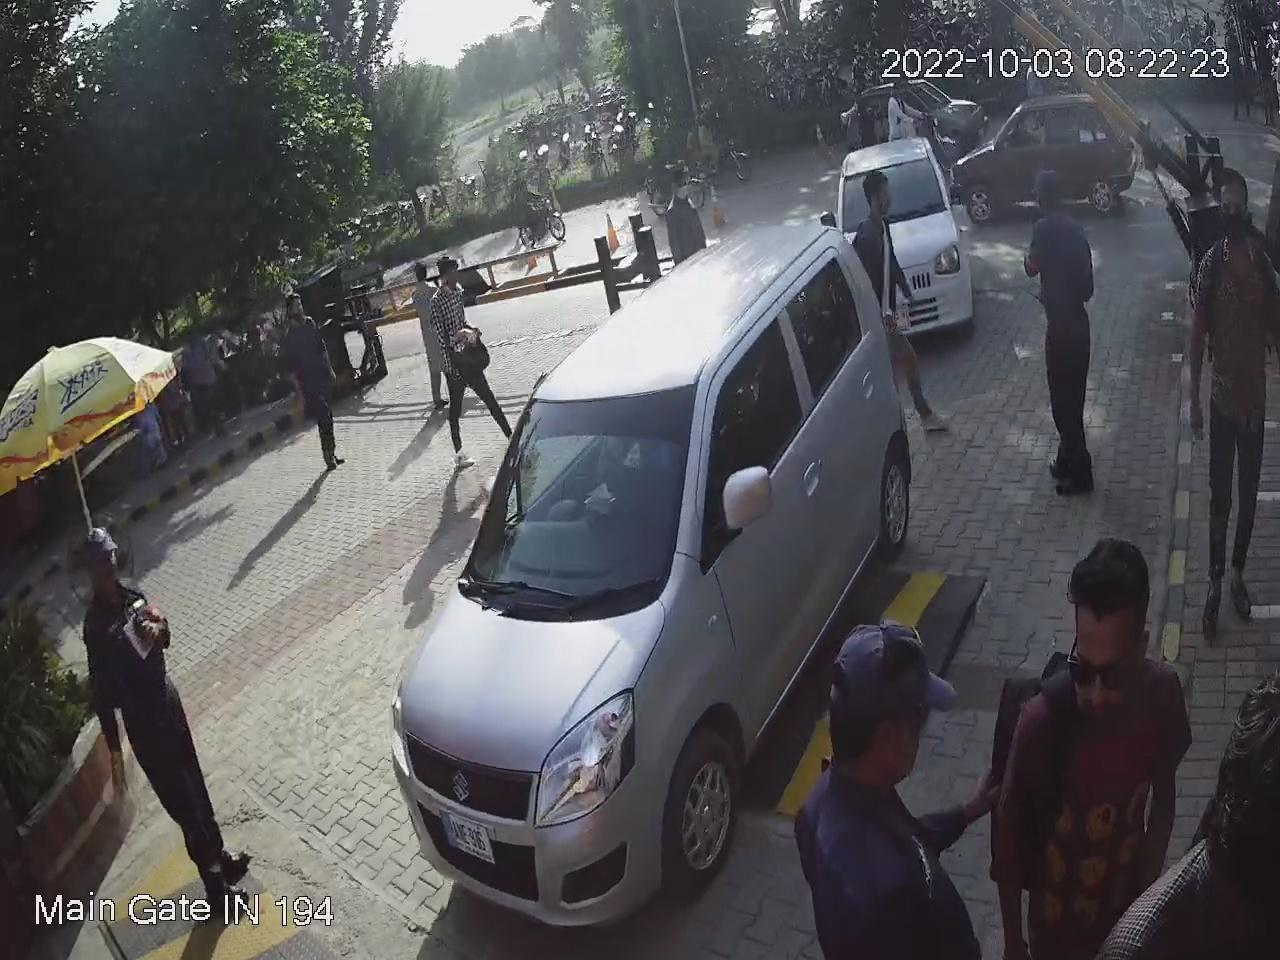windshield: (445, 380, 695, 605)
